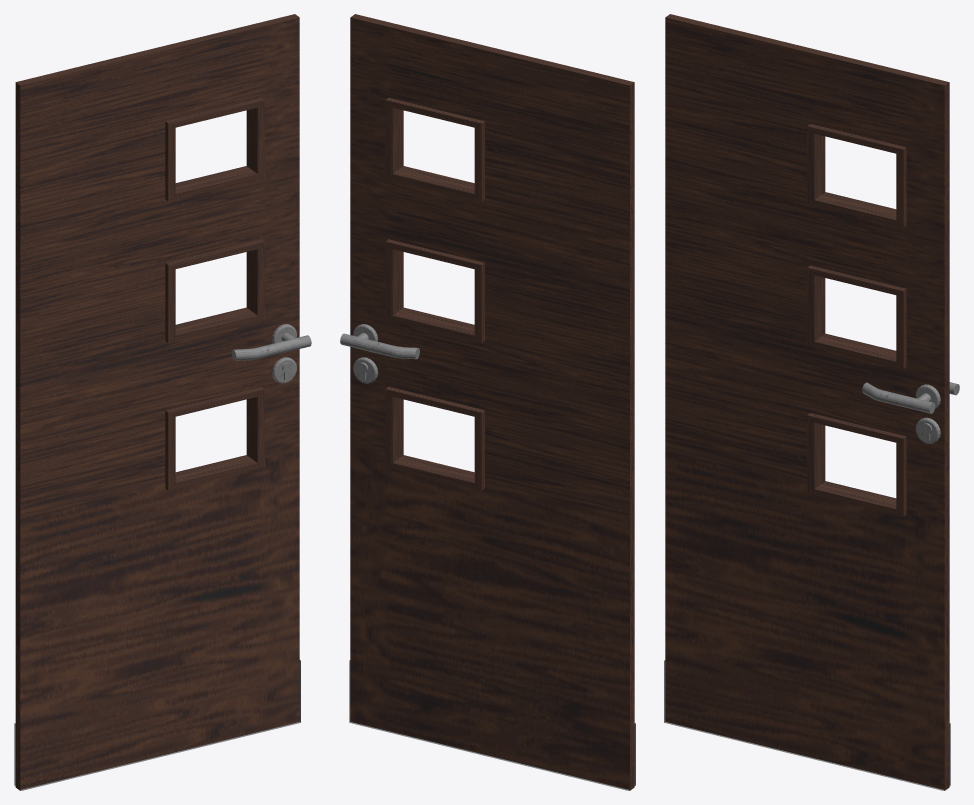
File: door2.glb
3 renders of one model, left to right at view 1: azimuth 30°, elevation 25°; view 2: azimuth 150°, elevation 25°; view 3: azimuth 330°, elevation 25°, orthographic.
Bounding box in the file's own units: 85 × 205 × 15.92.
2 materials, 2 textured.
